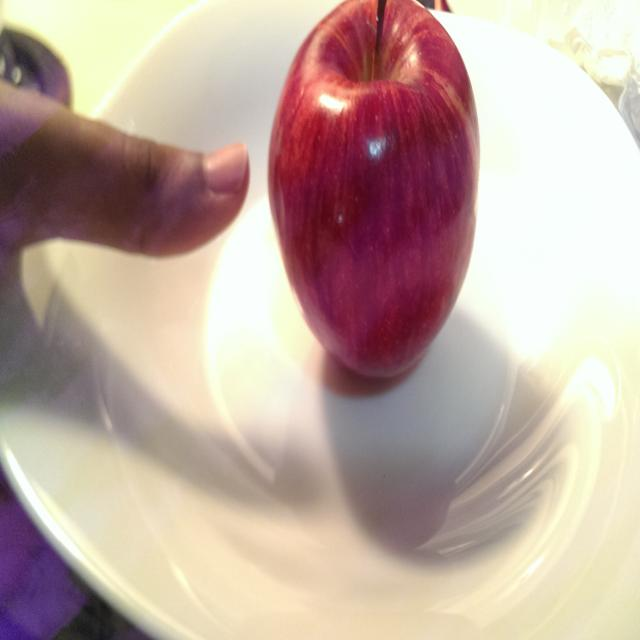apple: (265, 0, 483, 389)
